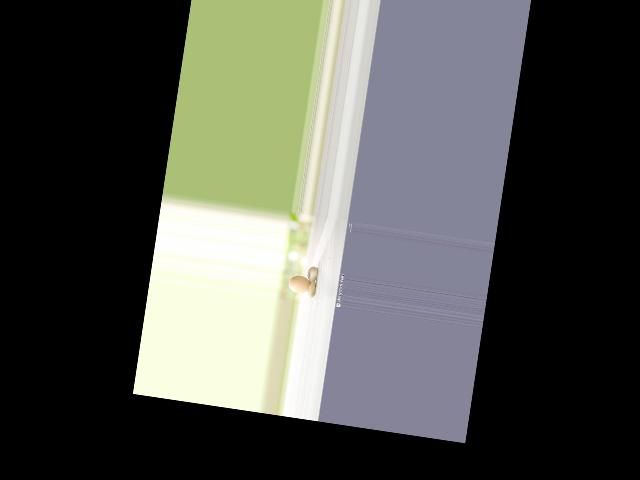egg: (288, 273, 311, 294)
